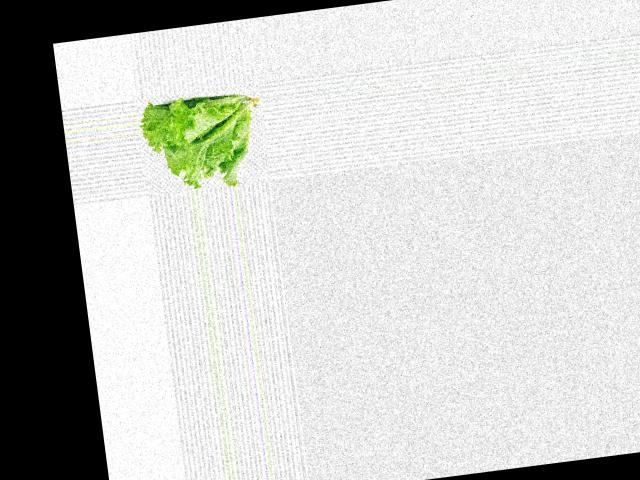lettuce: (138, 91, 270, 195)
